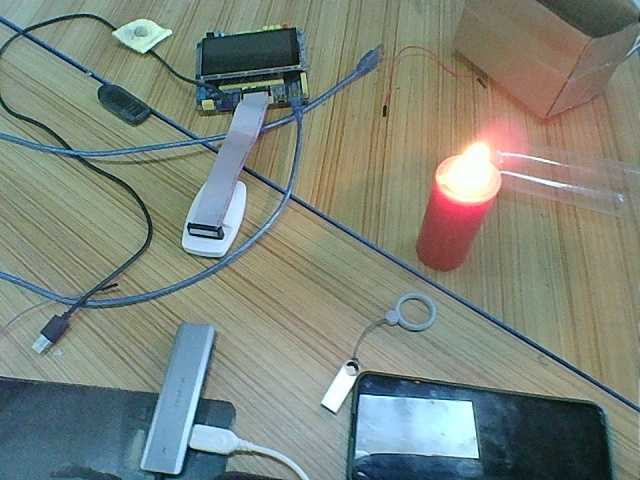candle: (413, 187, 490, 275)
fire: (437, 142, 496, 196)
